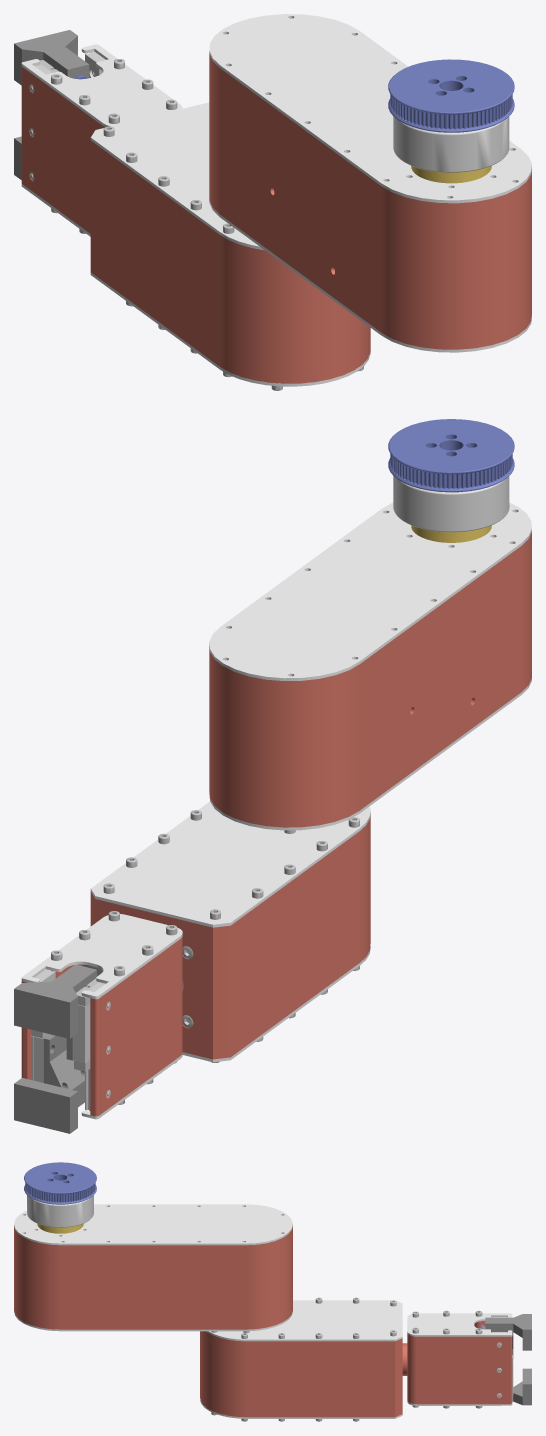
The model's file is SCARA-V1.glb.
3 renders of one model, top to bottom at view 1: azimuth 30°, elevation 25°; view 2: azimuth 150°, elevation 25°; view 3: azimuth 270°, elevation 25°, orthographic. The views are drawn at different scales.
Parts seen in each view (by area): view 1: Untitled; view 2: Untitled; view 3: Untitled.
Part boxes in pixels (<box>): Untitled: <box>14,14,531,390</box>; Untitled: <box>14,419,531,1133</box>; Untitled: <box>14,1162,531,1421</box>.
Bounding box in the file's own units: 10 × 26.7 × 55.7.
1 material, 1 textured.
